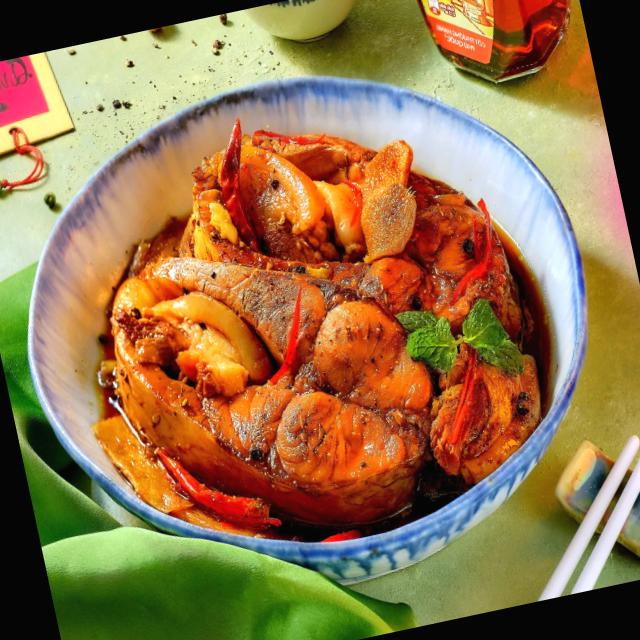ca kho: (110, 134, 543, 528)
ot: (217, 124, 249, 252)
rau ngo: (393, 302, 521, 375)
